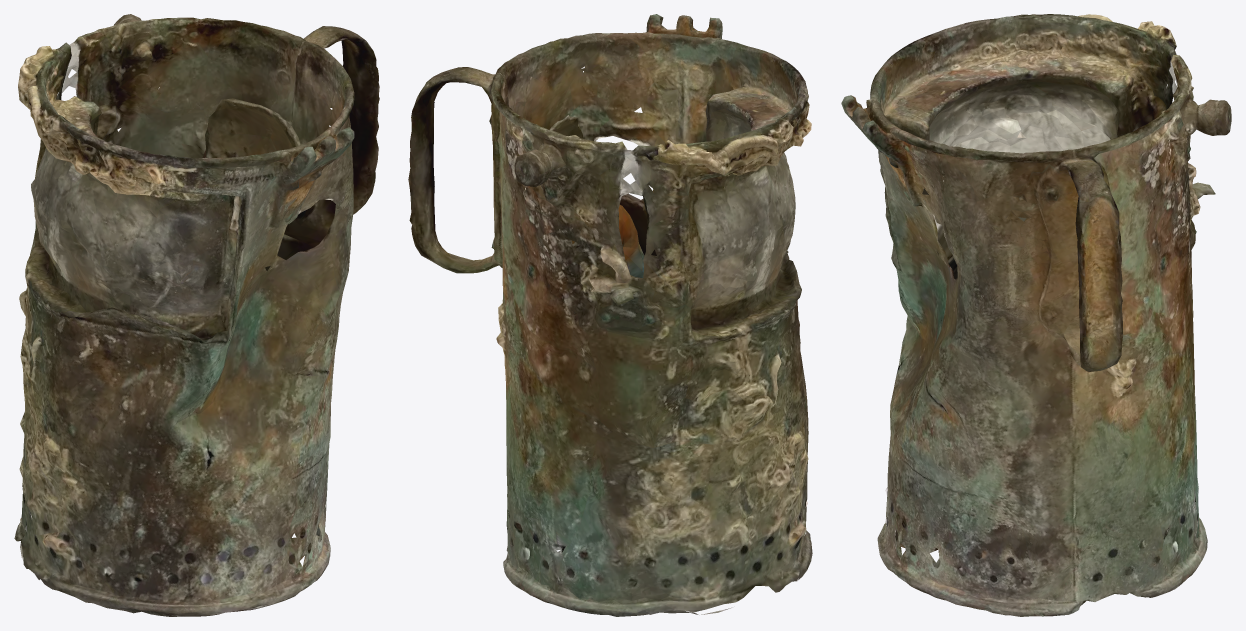
The model's file is farol-minero.glb.
3 views of the same model, side by side, from view 1: azimuth 30°, elevation 25°; view 2: azimuth 150°, elevation 25°; view 3: azimuth 270°, elevation 25° (orthographic). The views are drawn at different scales.
Visible parts, largest first — view 1: Object_4; view 2: Object_4; view 3: Object_4.
Boxes of the visible parts, box(x1,y1,x2,y2) form: Object_4: box(14, 14, 379, 616); Object_4: box(408, 14, 812, 616); Object_4: box(841, 14, 1231, 616).
Size of the model in its own units: 1.27 by 1.63 by 1.17.
1 material, 1 textured.
